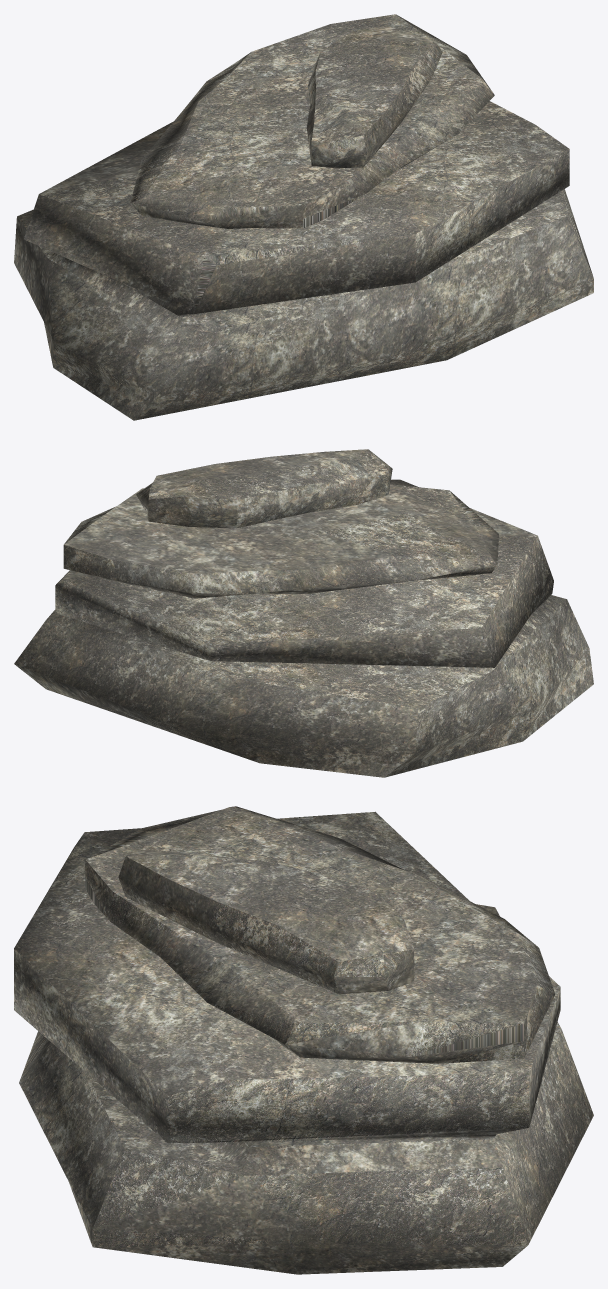
Rendered from ruin-base.glb.
The picture shows the model from 3 angles, top to bottom: view 1: azimuth 30°, elevation 25°; view 2: azimuth 150°, elevation 25°; view 3: azimuth 270°, elevation 25°; orthographic projection. The views are drawn at different scales.
Parts seen in each view (by area): view 1: ruin-base; view 2: ruin-base; view 3: ruin-base.
Part boxes in pixels (x1=…): ruin-base: x1=14, y1=14, x2=593, y2=420; ruin-base: x1=14, y1=449, x2=593, y2=777; ruin-base: x1=14, y1=806, x2=593, y2=1274.
Size of the model in its own units: 13.51 by 6.08 by 10.77.
1 material, 1 textured.
